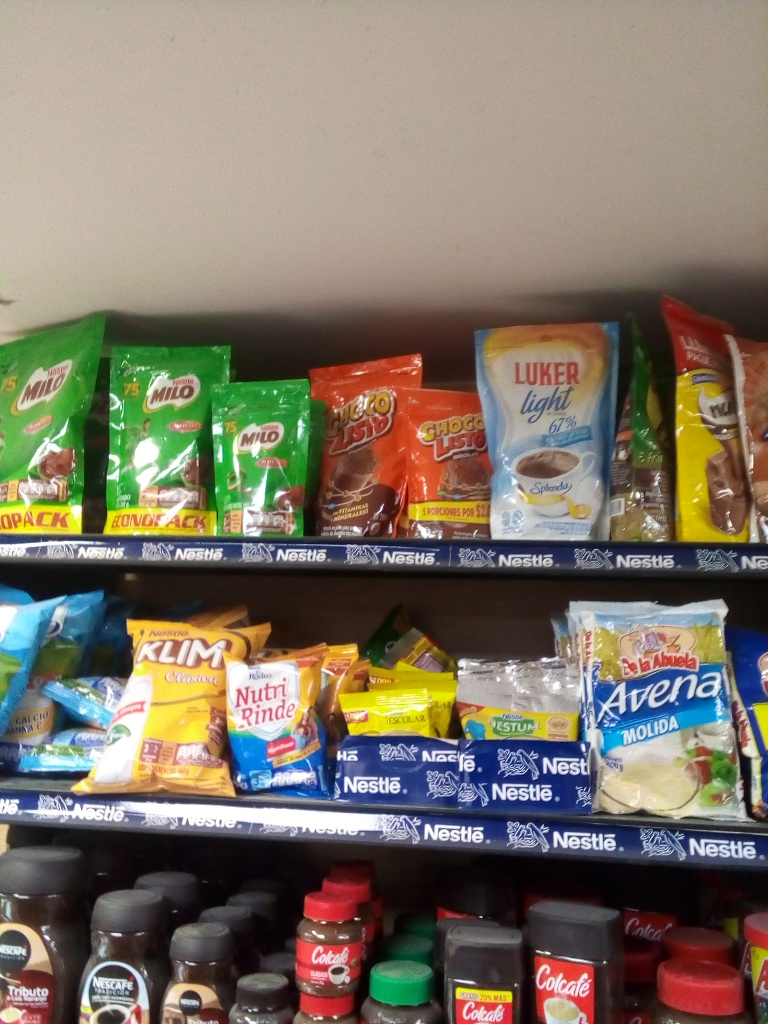COL0170203DYP10000: (215, 383, 309, 546)
COL0170203DYP50000: (0, 322, 105, 536)
